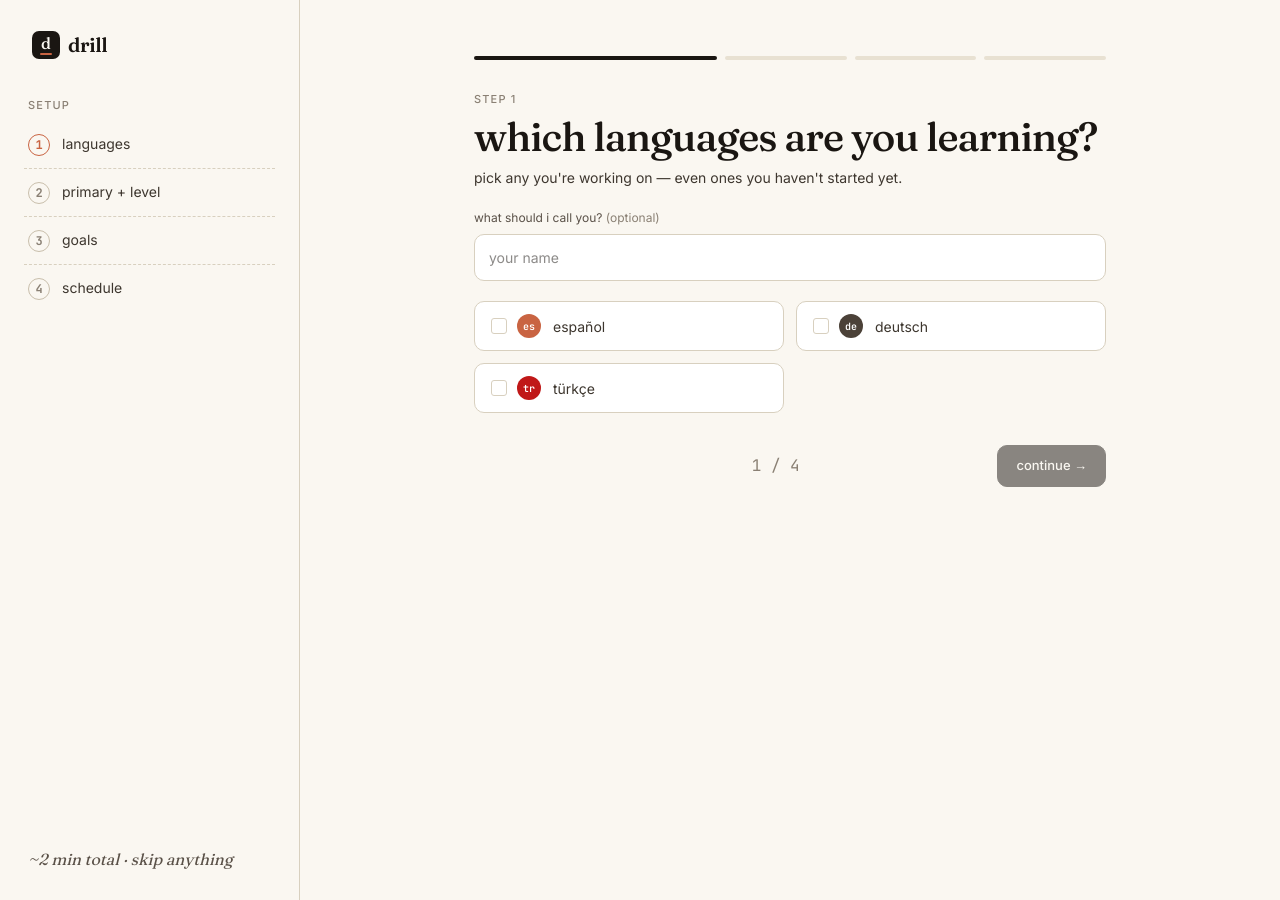
Test: OnboardingPage › shows the server error message inline and keeps the user on Step 4 when the submission returns 4xx
Click the checkbox labelled "es español". click: {"x": 579, "y": 326}
box: x1=474 y1=302 x2=784 y2=352
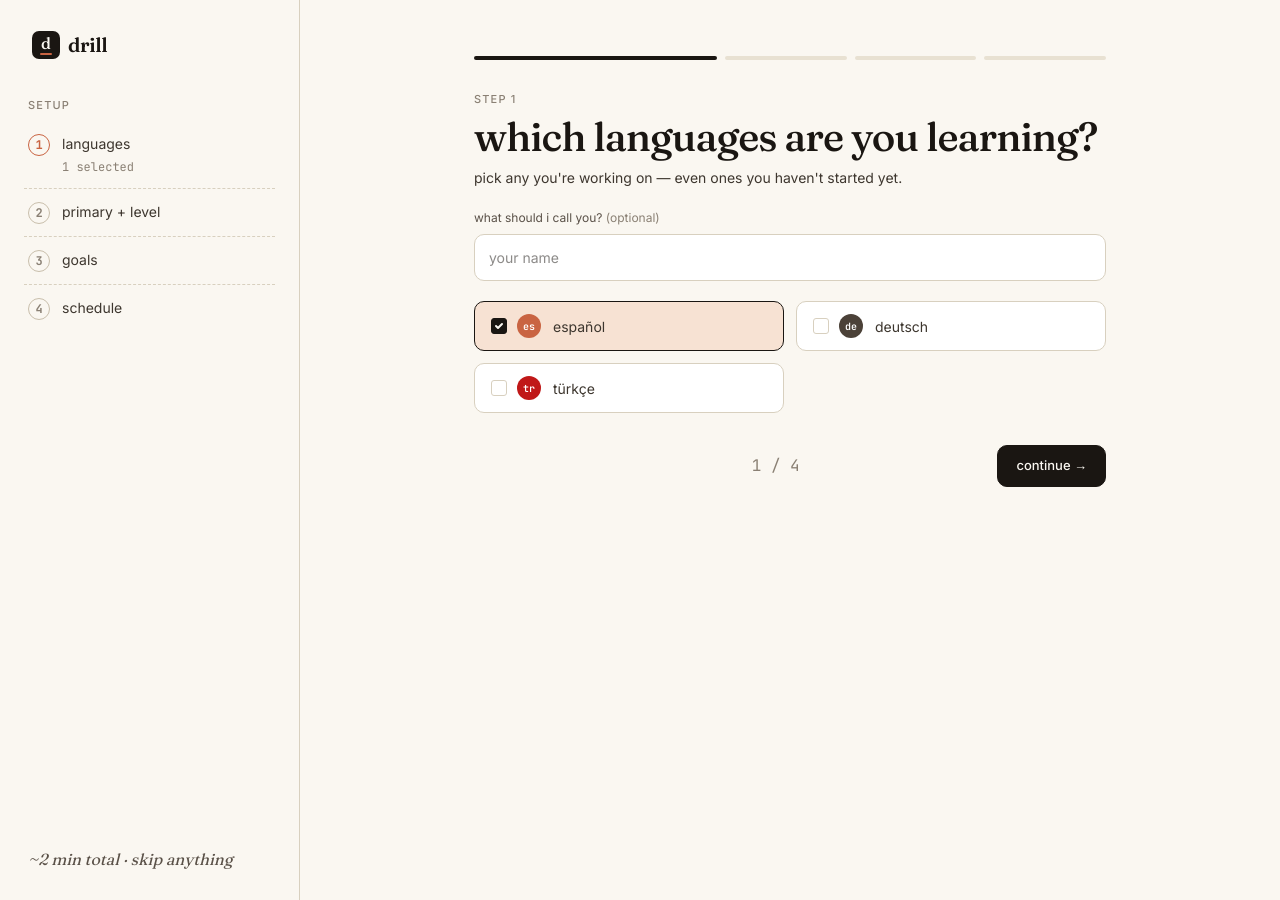
Click the button with test id "wizard-footer-primary". click: {"x": 1052, "y": 466}
box: x1=997 y1=446 x2=1106 y2=487
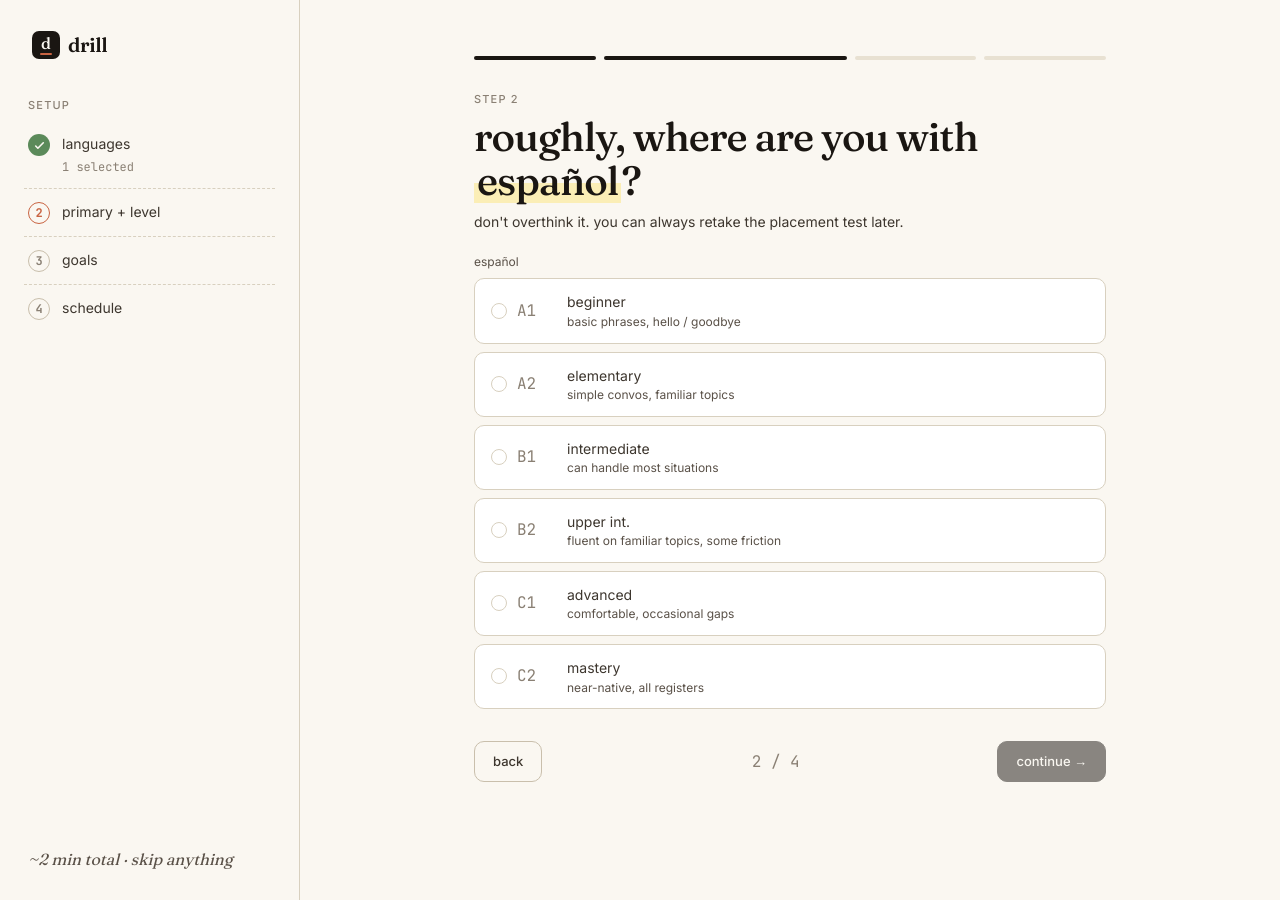
Click the radio button labelled "B2 upper int. fluent on familiar topics, some friction". click: {"x": 599, "y": 521}
box: x1=474 y1=498 x2=1106 y2=563
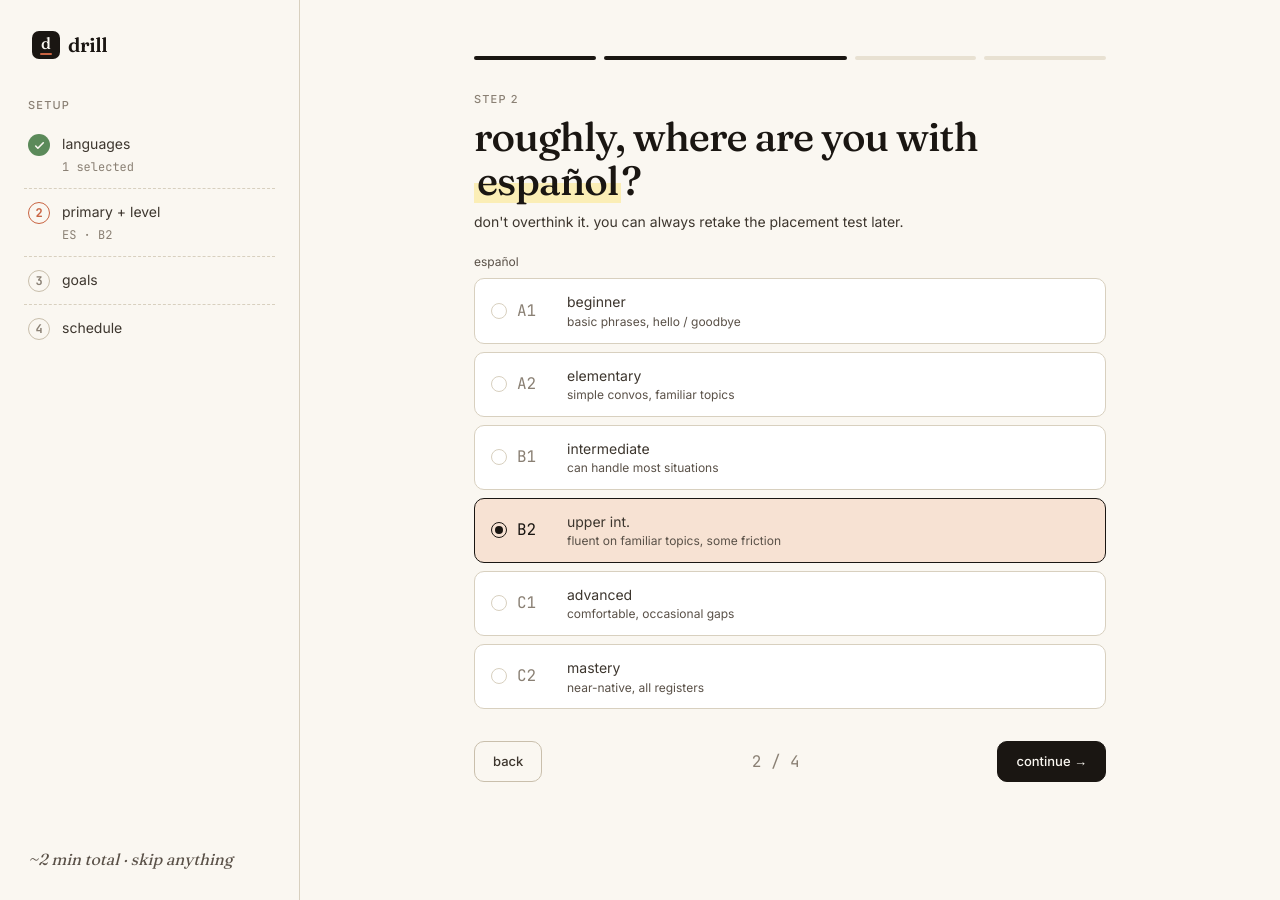
Click the button with test id "wizard-footer-primary". click: {"x": 1052, "y": 762}
box: x1=997 y1=741 x2=1106 y2=782
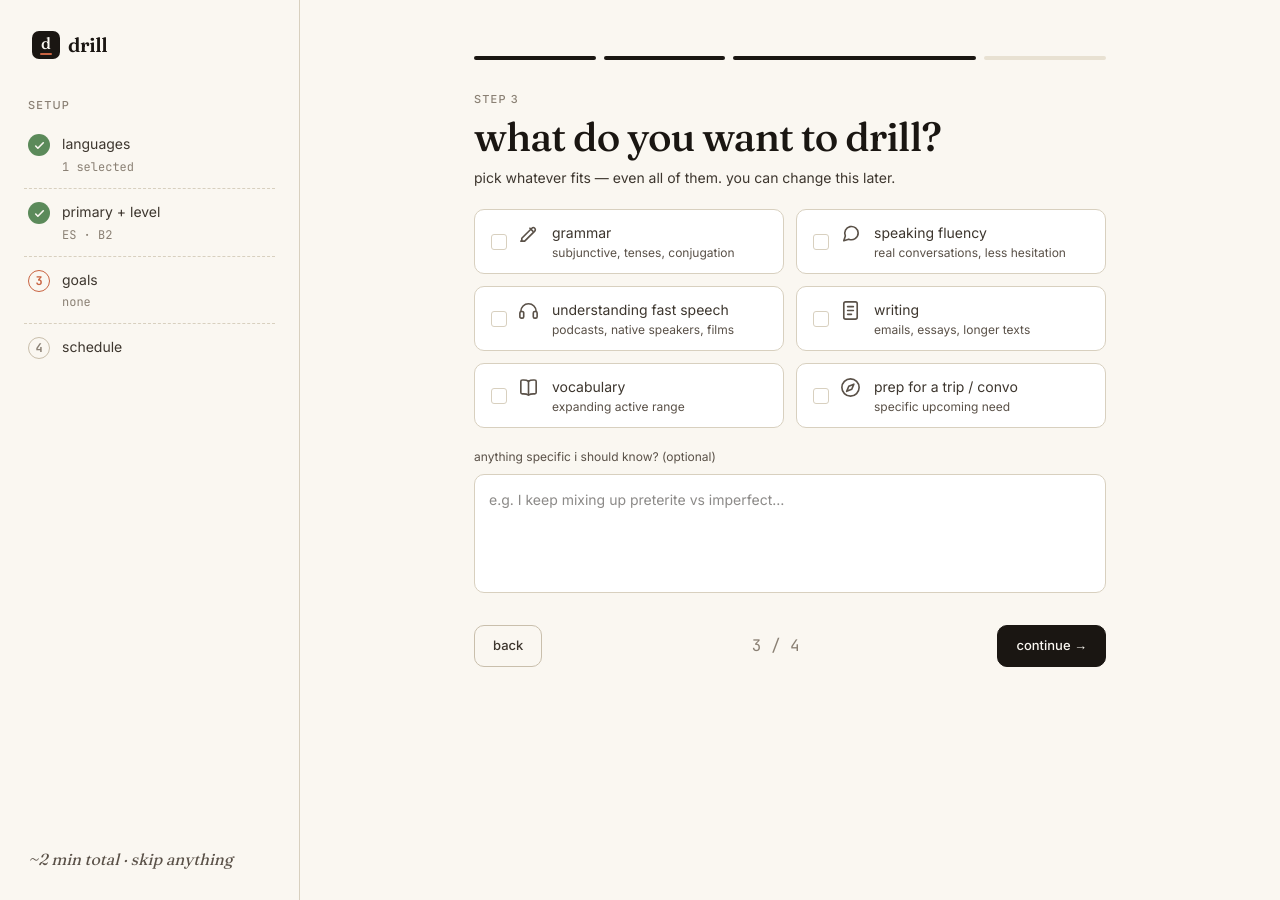
Expected: the element named "goals" is shown, x1=474 y1=209 x2=1106 y2=428
Click the button with test id "wizard-footer-primary". click: {"x": 1052, "y": 646}
box: x1=997 y1=625 x2=1106 y2=667
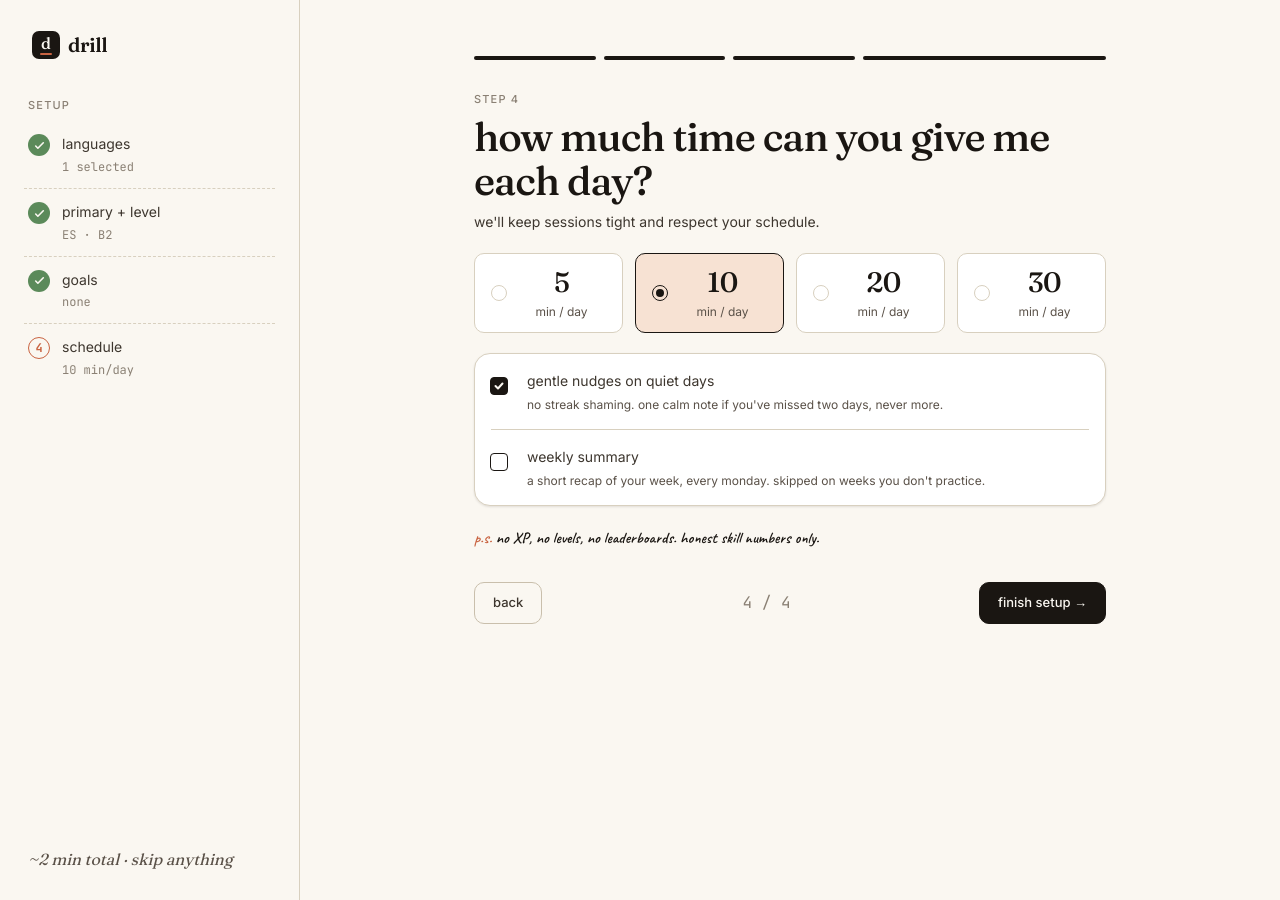
Expected: the element named "daily time" is shown, x1=474 y1=253 x2=1106 y2=333
Click the button "finish setup →". click: {"x": 1042, "y": 603}
box: x1=979 y1=582 x2=1106 y2=624
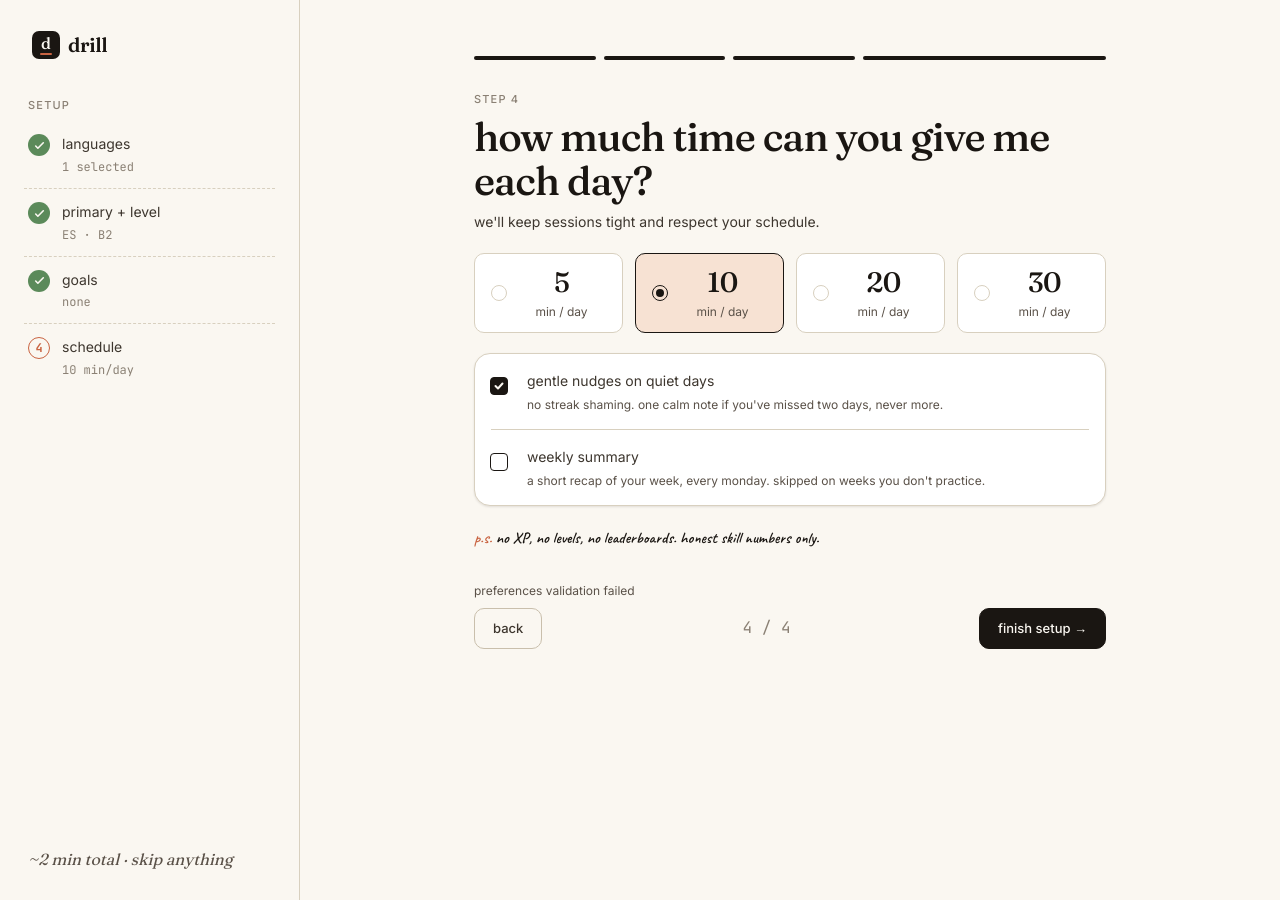
Expected: the button "finish setup →" is enabled, x1=979 y1=608 x2=1106 y2=649
Expected: the message reads "preferences validation failed", x1=474 y1=583 x2=635 y2=598
